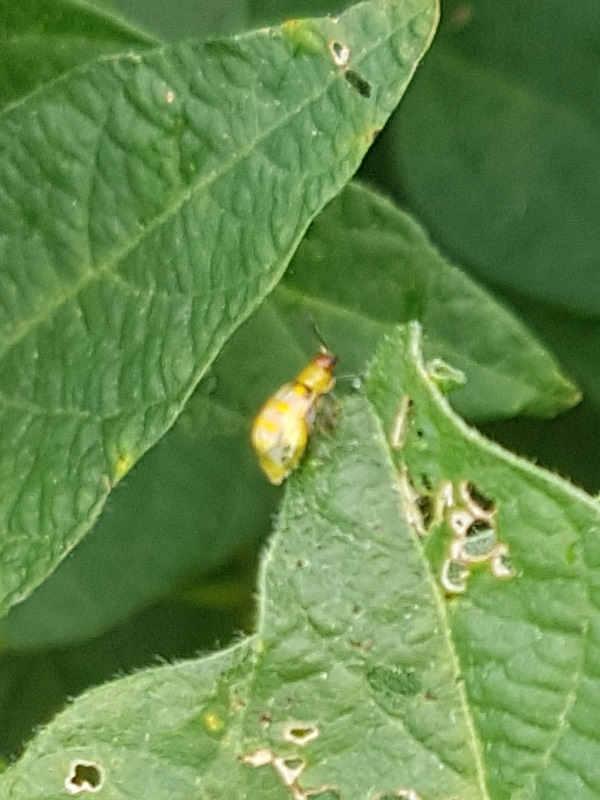Diabrotica_speciosa: (218, 309, 364, 496)
